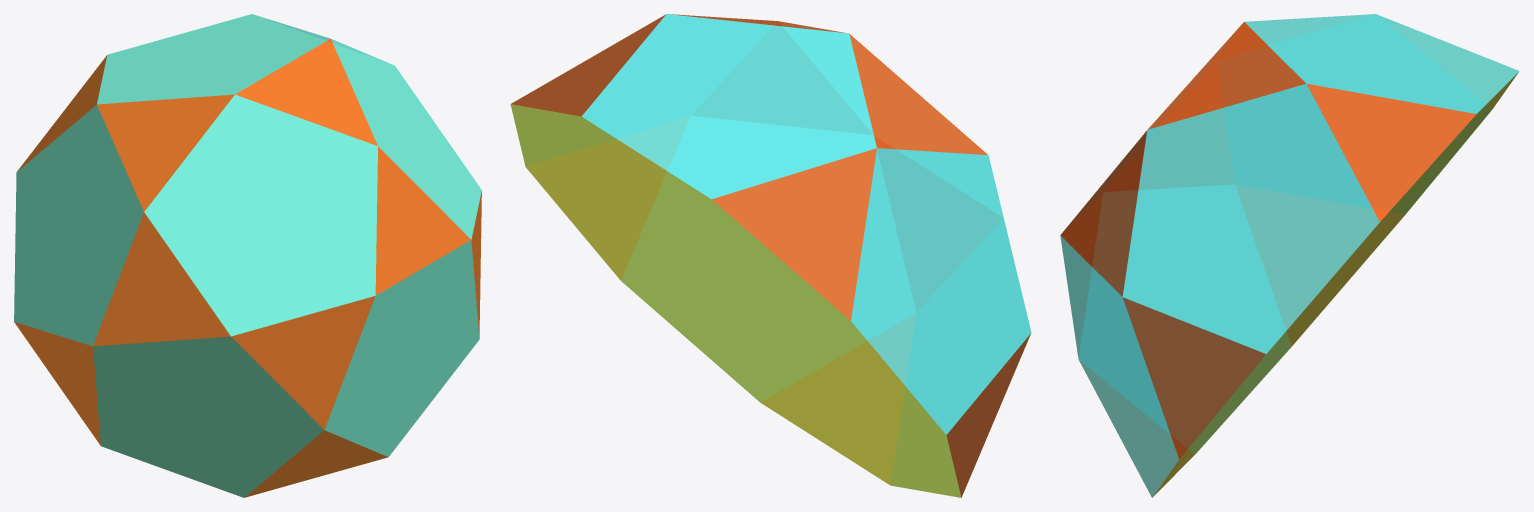
Rendered from j6_pentagonal_rotunda.obj.
3 views of the same model, side by side, from view 1: azimuth 30°, elevation 25°; view 2: azimuth 150°, elevation 25°; view 3: azimuth 270°, elevation 25° (orthographic). The views are drawn at different scales.
Bounding box in the file's own units: 2.03 × 1.86 × 1.74.
